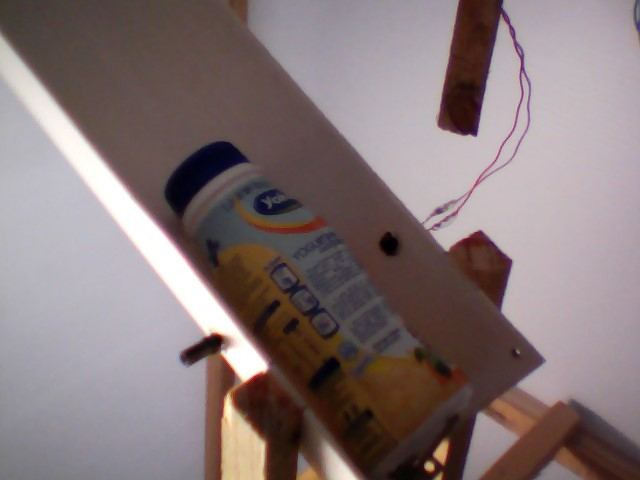plastico: (159, 137, 478, 479)
